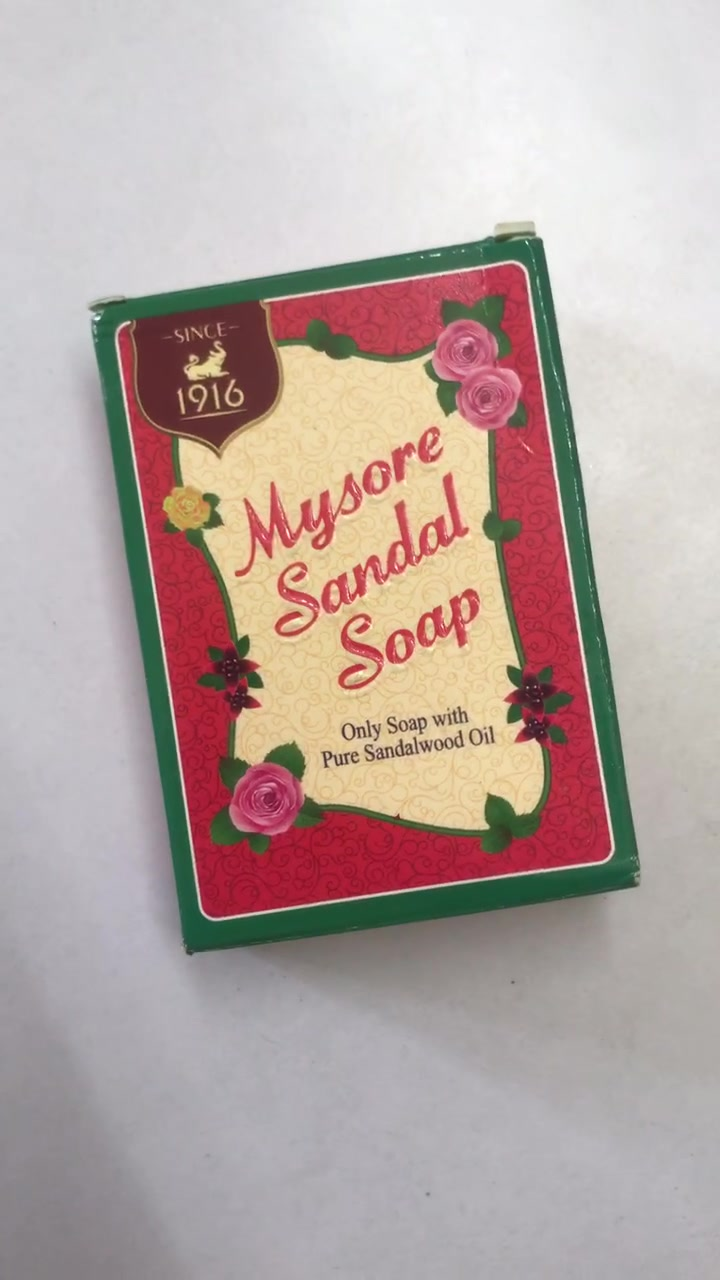mysore sandal soap: (99, 242, 645, 953)
